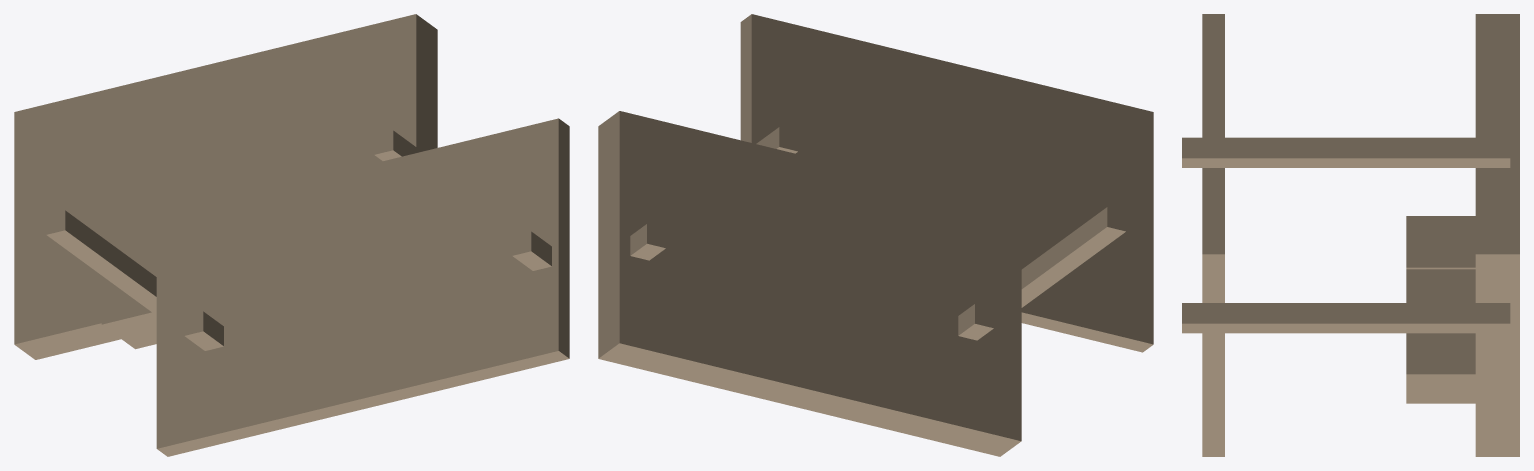
File: merchant_stall.glb
3 renders of one model, left to right at view 1: azimuth 30°, elevation 25°; view 2: azimuth 150°, elevation 25°; view 3: azimuth 270°, elevation 25°, orthographic. The views are drawn at different scales.
Visible parts, largest first — view 1: world; view 2: world; view 3: world.
Part boxes in pixels (x1,y1,x2,y2): world: (14,14,569,456); world: (598,14,1153,456); world: (1182,14,1519,456).
Bounding box in the file's own units: 3.8 × 2.1 × 2.67.
